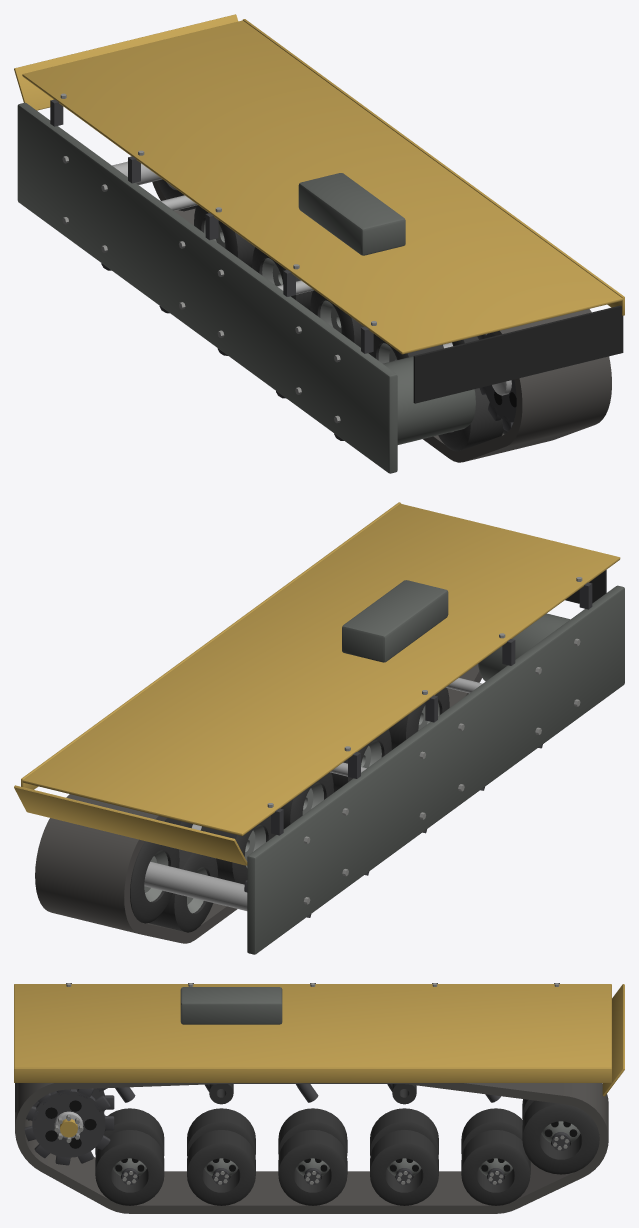
File: track.glb
3 renders of one model, top to bottom at view 1: azimuth 30°, elevation 25°; view 2: azimuth 150°, elevation 25°; view 3: azimuth 270°, elevation 25°, orthographic. The views are drawn at different scales.
Parts seen in each view (by area): view 1: Part, Belt, Road4, Sprocket, Road2, Road0, Road1, Road3; view 2: Part, Belt, Idler, Road0, Road1, Road2, Road4, Road3; view 3: Part, Belt, Road2, Road3, Road1, Road0, Road4, Sprocket, Idler.
Part boxes in pixels (box(x1,y1,x2,y2)): Part: box(14, 14, 624, 473); Belt: box(152, 181, 611, 462); Road4: box(438, 388, 507, 451); Sprocket: box(477, 332, 516, 431); Road2: box(310, 290, 363, 347); Road0: box(194, 205, 254, 267); Road1: box(252, 247, 312, 310); Road3: box(368, 334, 478, 363); Part: box(14, 502, 624, 954); Belt: box(35, 664, 482, 943); Idler: box(130, 841, 179, 923); Road0: box(149, 849, 218, 932); Road1: box(164, 815, 275, 884); Road2: box(280, 772, 333, 828); Road4: box(389, 687, 449, 749); Road3: box(331, 729, 391, 792); Part: box(14, 983, 624, 1112); Belt: box(15, 1083, 608, 1213); Road2: box(278, 1108, 347, 1205); Road3: box(187, 1108, 255, 1205); Road1: box(370, 1108, 438, 1205); Road0: box(461, 1108, 530, 1205); Road4: box(95, 1108, 164, 1205); Sprocket: box(24, 1088, 114, 1165); Idler: box(522, 1099, 599, 1174).
Bounding box in the file's own units: 1.05 × 0.935 × 3.
